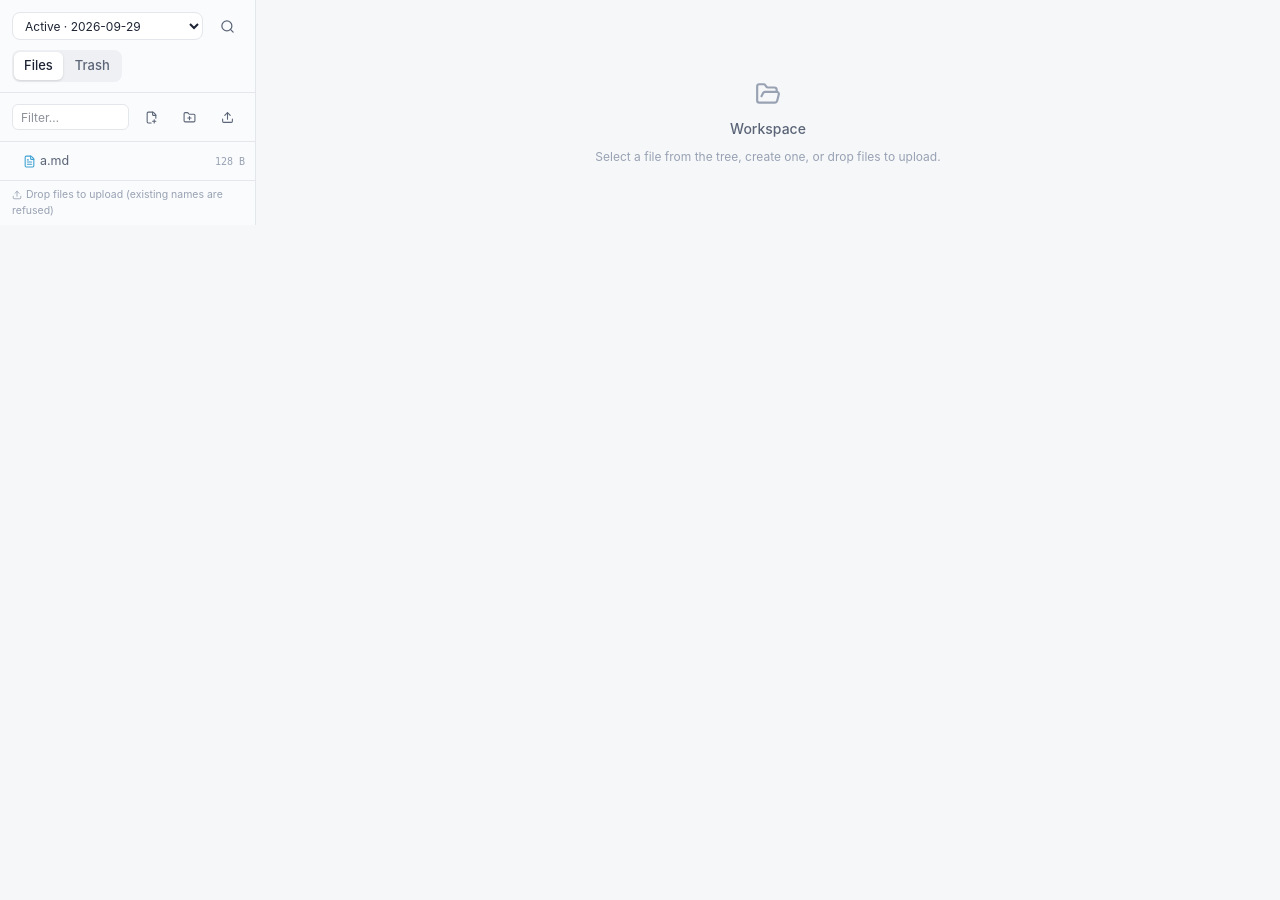
Test case: WorkspacePage trash › moves a file to the trash and clears the selection
What coordinates should you click on to do the following:
click the button "a.md 128 B"
I would click on:
 (128, 161)
Its box is [6,148,249,174].
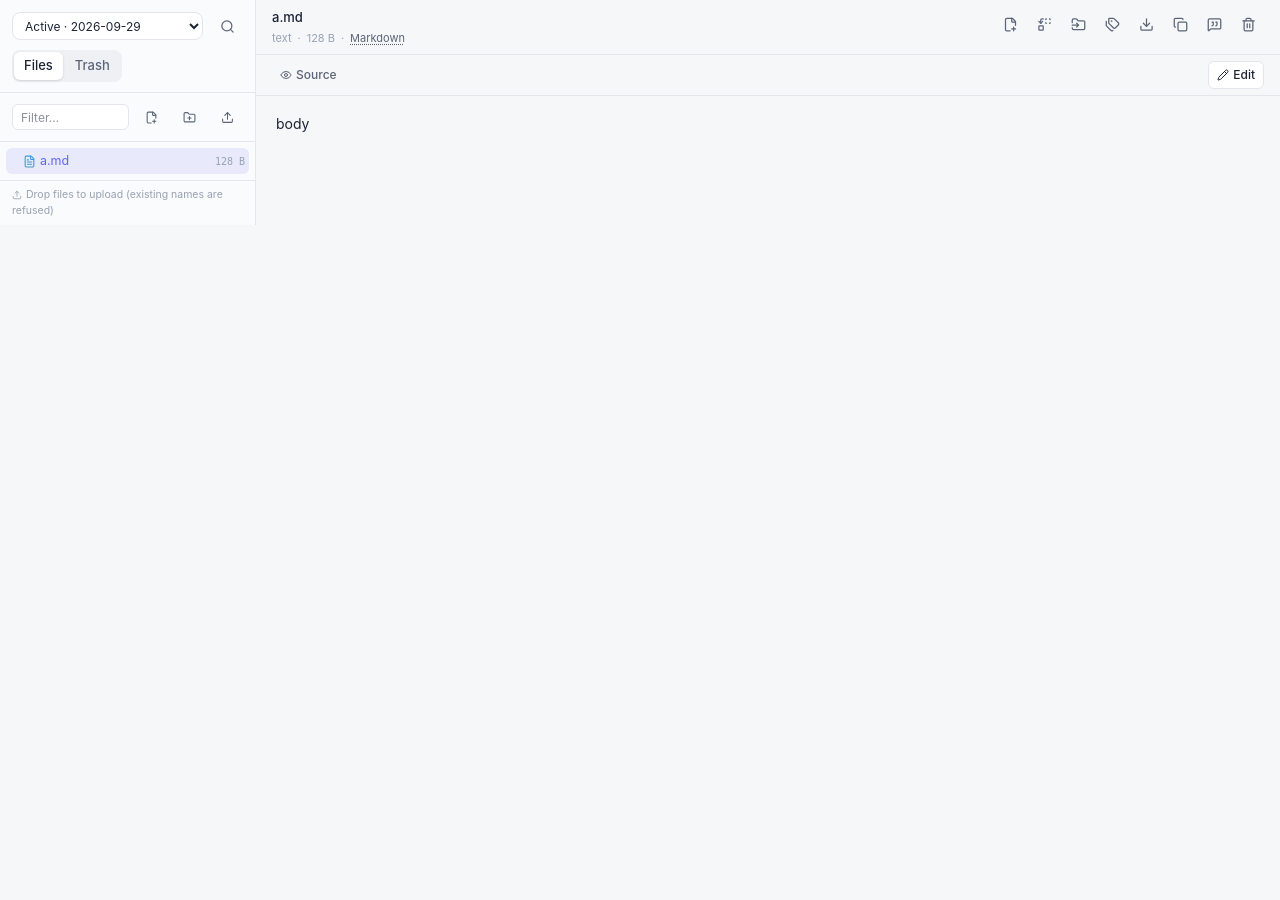
What coordinates should you click on to do the following:
click the button named "Move to trash"
I would click on:
 (1248, 24)
Its box is [1232,8,1264,40].
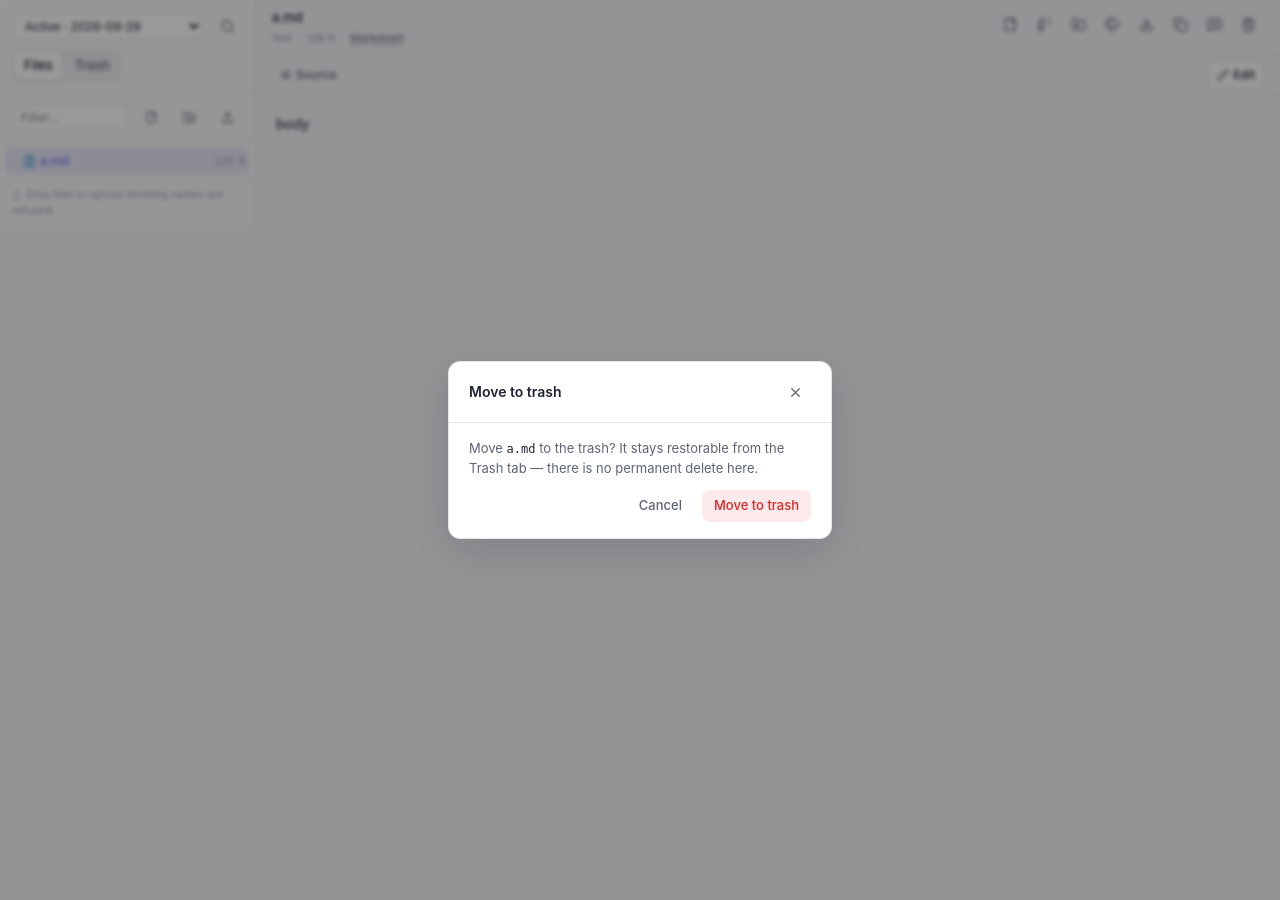
What coordinates should you click on to do the following:
click the button "Move to trash"
I would click on:
 (756, 506)
Its box is [702,490,811,522].
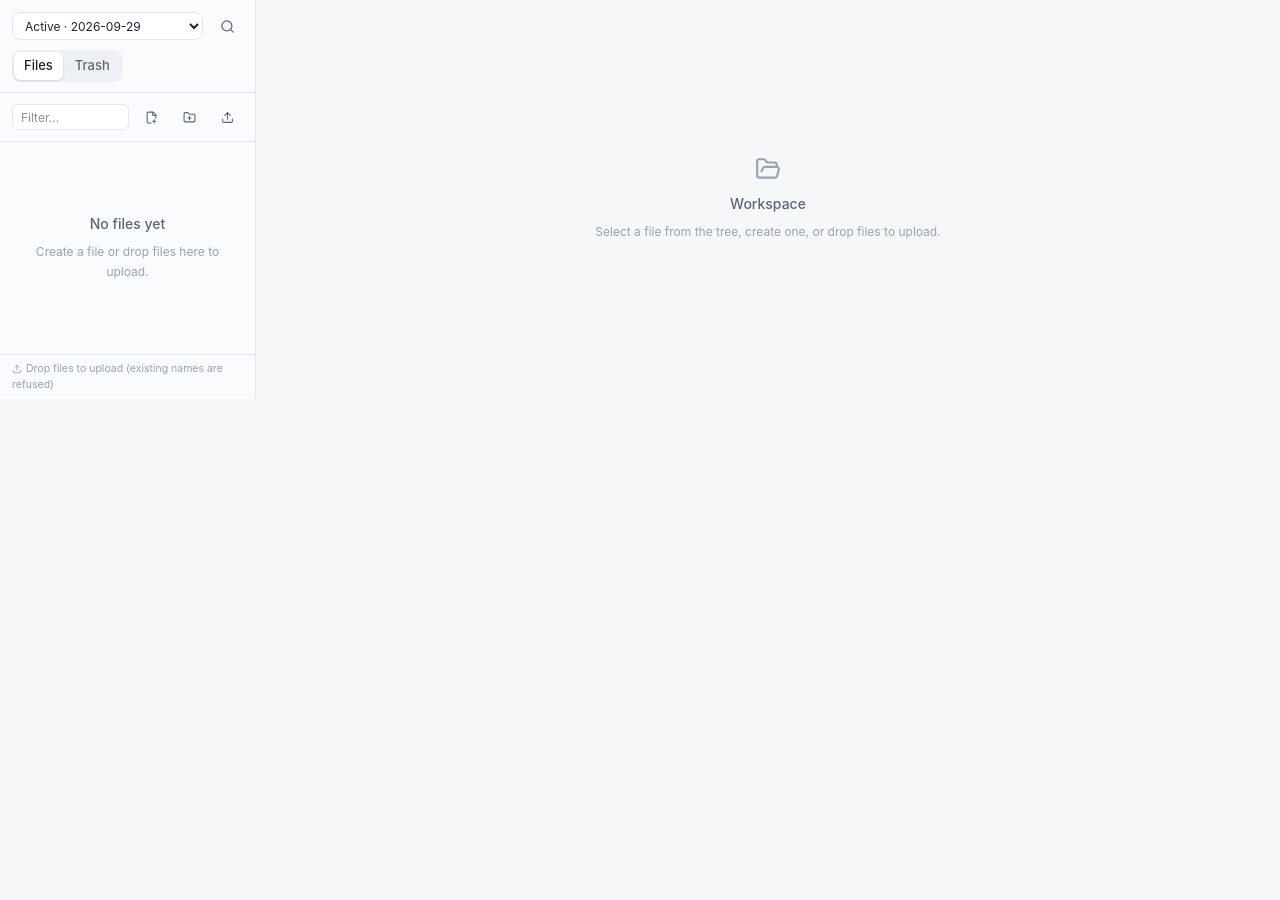
Expected: the text "No files yet" is shown, [90,214,165,234]
